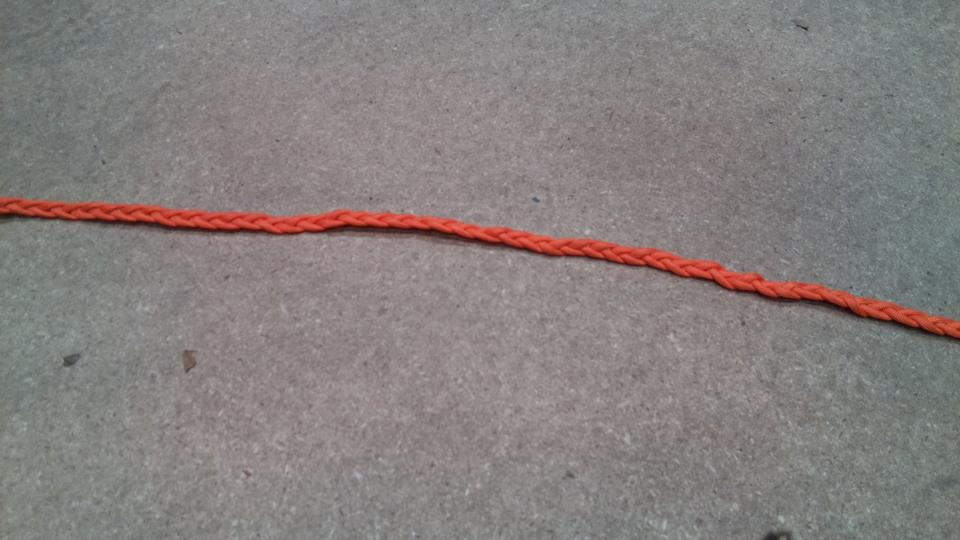rope: (1, 191, 960, 346)
